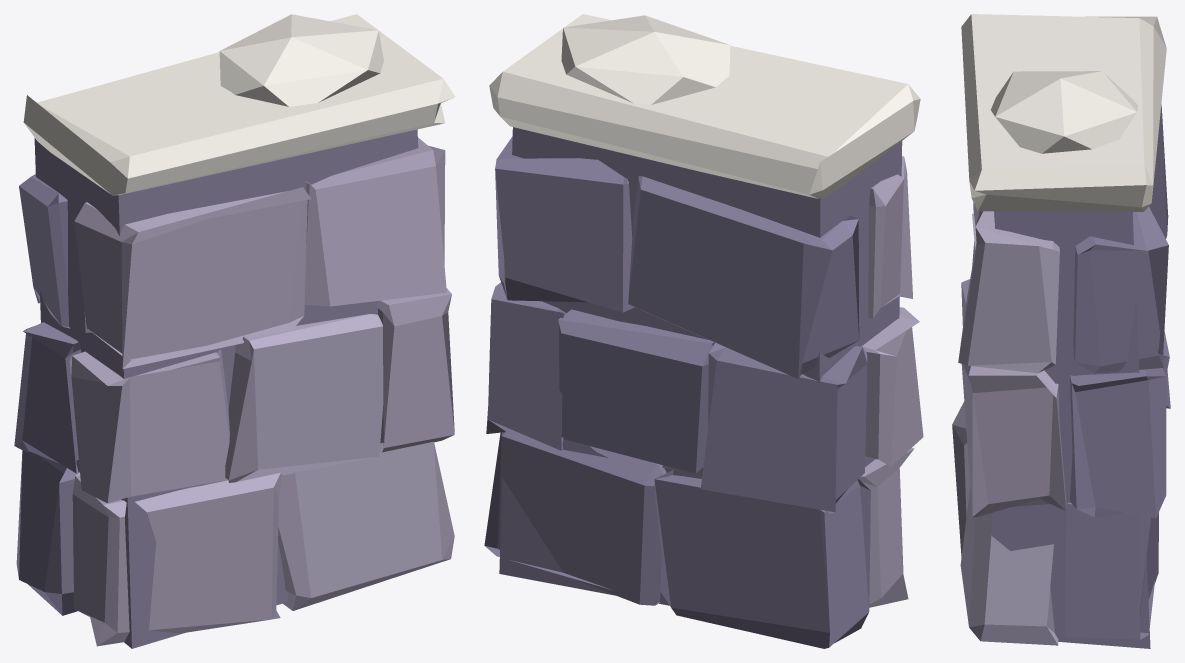
Rendered from sb_cave_wall.glb.
3 views of the same model, side by side, from view 1: azimuth 30°, elevation 25°; view 2: azimuth 150°, elevation 25°; view 3: azimuth 270°, elevation 25° (orthographic). The views are drawn at different scales.
Parts seen in each view (by area): view 1: cave_wall; view 2: cave_wall; view 3: cave_wall.
Boxes of the visible parts, box(x1,y1,x2,y2) form: cave_wall: box(14, 14, 455, 648); cave_wall: box(484, 14, 923, 648); cave_wall: box(952, 14, 1170, 648).
Bounding box in the file's own units: 1.06 × 1.52 × 0.573.
